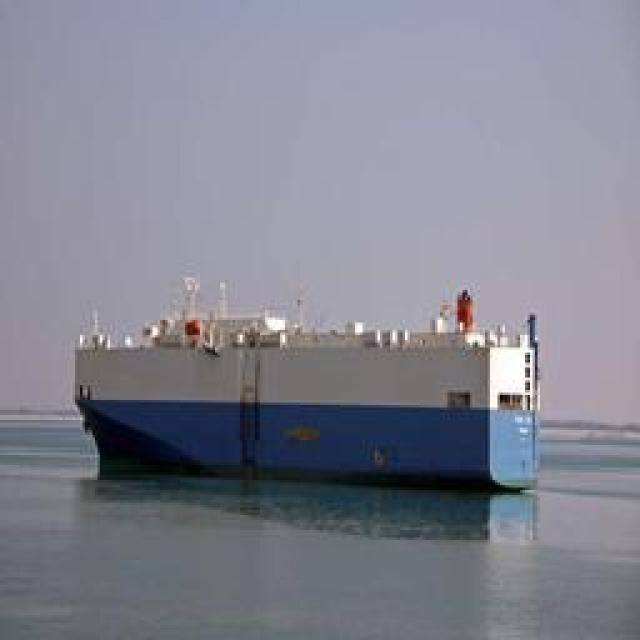Ship: (74, 303, 544, 493)
